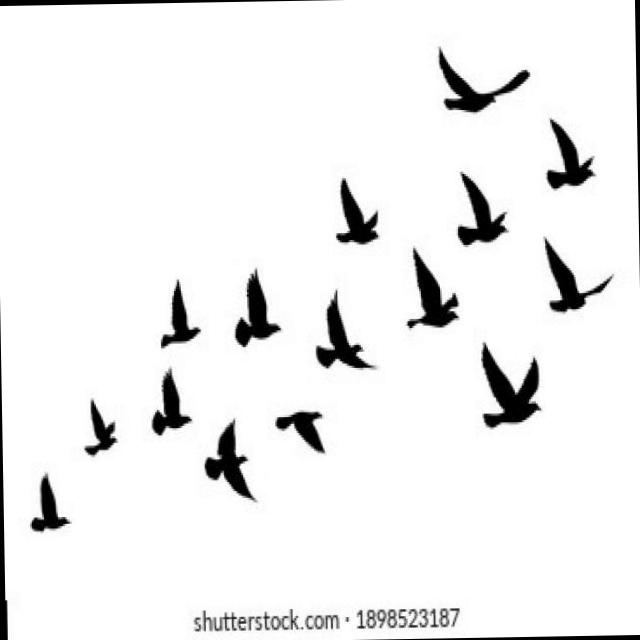bird: (432, 40, 536, 122), (442, 161, 524, 258), (535, 232, 610, 336), (466, 341, 551, 432), (398, 244, 462, 336), (315, 286, 379, 376), (198, 419, 258, 512), (534, 115, 602, 196), (146, 357, 204, 446), (325, 178, 387, 258), (224, 270, 290, 345), (152, 278, 208, 354), (14, 471, 76, 538), (266, 402, 332, 464), (81, 396, 123, 462)
